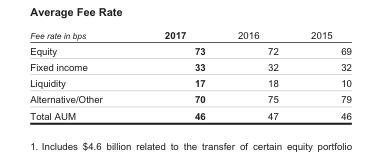table: (29, 28, 350, 120)
table column: (29, 28, 132, 120), (132, 28, 220, 120), (220, 28, 293, 120), (293, 28, 350, 120)
table column header: (29, 28, 350, 42)
table row: (29, 42, 350, 58), (29, 58, 350, 74), (29, 74, 350, 90), (29, 90, 350, 106), (29, 28, 350, 42), (29, 106, 350, 120)
